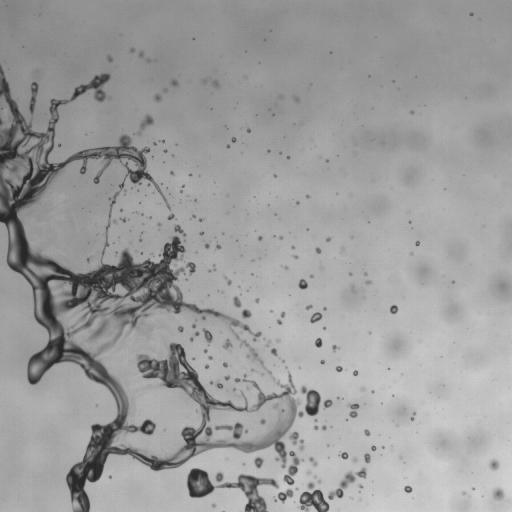droplet: (298, 482, 329, 511), (348, 403, 359, 417), (310, 312, 322, 323), (493, 488, 504, 500), (209, 380, 223, 389), (222, 339, 232, 351), (489, 459, 499, 470), (254, 457, 263, 468), (298, 279, 307, 289), (241, 309, 251, 318), (233, 296, 241, 307), (323, 399, 332, 408), (389, 305, 397, 314), (309, 457, 317, 466), (315, 338, 322, 347), (339, 452, 348, 459), (364, 453, 370, 463), (270, 348, 277, 356), (404, 485, 412, 492), (154, 94, 161, 101), (171, 80, 178, 86), (177, 326, 183, 333), (364, 429, 370, 436), (168, 213, 174, 219), (315, 247, 321, 253), (265, 340, 271, 346), (332, 345, 338, 351), (213, 80, 218, 87), (107, 56, 113, 61), (216, 243, 221, 249), (222, 362, 228, 367), (336, 366, 342, 371), (224, 375, 230, 380), (294, 96, 299, 101), (208, 355, 213, 360), (204, 364, 209, 369), (321, 425, 326, 430), (371, 445, 376, 450), (139, 51, 143, 57), (120, 218, 126, 222), (306, 305, 312, 309), (232, 137, 236, 142), (205, 244, 209, 249), (365, 280, 370, 284), (255, 298, 259, 303), (251, 368, 256, 372), (353, 370, 357, 375), (306, 470, 311, 474), (130, 48, 134, 52), (170, 171, 174, 175), (157, 222, 161, 226), (258, 236, 262, 240), (326, 237, 330, 241), (415, 241, 419, 245), (192, 323, 196, 327), (203, 349, 207, 353), (320, 360, 324, 364), (133, 390, 137, 394), (352, 458, 356, 462), (358, 484, 362, 488), (212, 265, 215, 270), (164, 88, 167, 92), (410, 111, 414, 114), (247, 128, 250, 132), (199, 218, 203, 221), (341, 248, 344, 252), (293, 255, 297, 258), (310, 274, 313, 278), (314, 426, 318, 429), (287, 156, 290, 159), (306, 194, 309, 197), (200, 232, 203, 235), (279, 236, 282, 239), (291, 246, 294, 249), (86, 258, 89, 261), (323, 326, 326, 329), (276, 339, 279, 342), (361, 387, 364, 390), (232, 388, 235, 391), (317, 480, 320, 483), (212, 504, 215, 507), (470, 12, 472, 15), (227, 145, 229, 148), (164, 149, 166, 152), (326, 159, 328, 162), (274, 174, 276, 177), (192, 215, 195, 217), (323, 307, 326, 309), (314, 419, 317, 421), (462, 492, 465, 494), (161, 140, 163, 142), (182, 185, 184, 187), (139, 239, 141, 241), (270, 310, 272, 312), (152, 349, 154, 351), (382, 446, 384, 448)
ligament: (0, 64, 319, 511), (186, 468, 278, 511), (327, 467, 366, 499), (137, 115, 153, 135), (29, 82, 38, 115), (289, 432, 304, 450), (274, 488, 293, 502), (202, 328, 212, 345), (174, 225, 185, 236), (276, 311, 285, 324), (189, 331, 199, 342), (224, 276, 231, 284), (282, 265, 287, 269), (410, 415, 414, 420)
